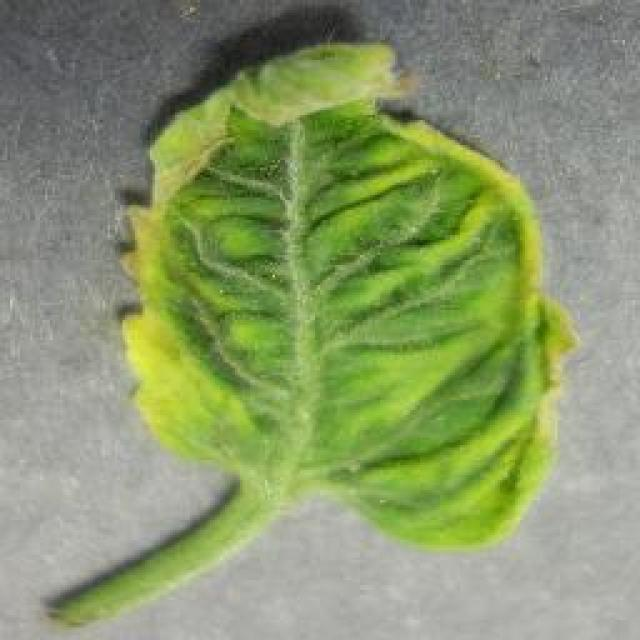Tom_Yellow_Leaf_Curl_Virus: (168, 54, 520, 494)
